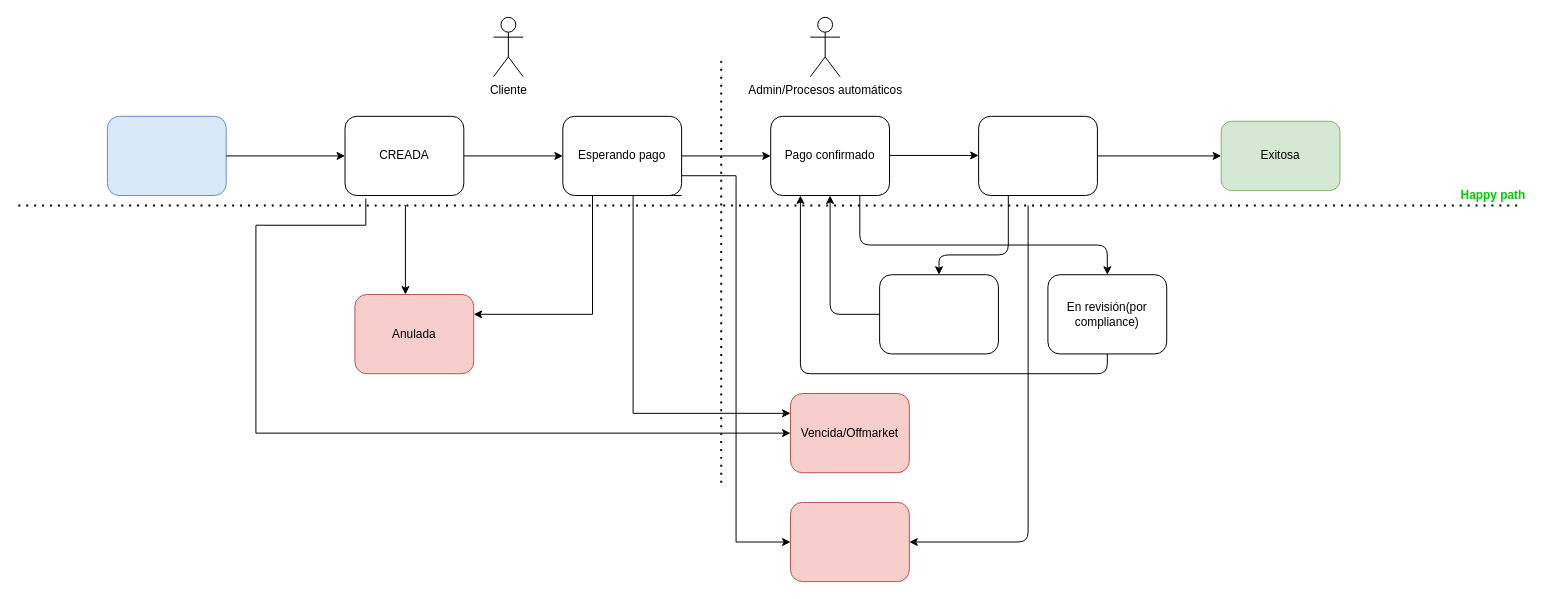
Image size: 1559x599. Some labels were removed from this diagram. Each missing label, with the centre of its shape:
"En revisión(datos erróneos)" goes at point (938, 314).
"Enviada(en camino...)" goes at point (1037, 155).
"Rechazado" goes at point (849, 541).
"Transferencia iniciada" goes at point (166, 155).
